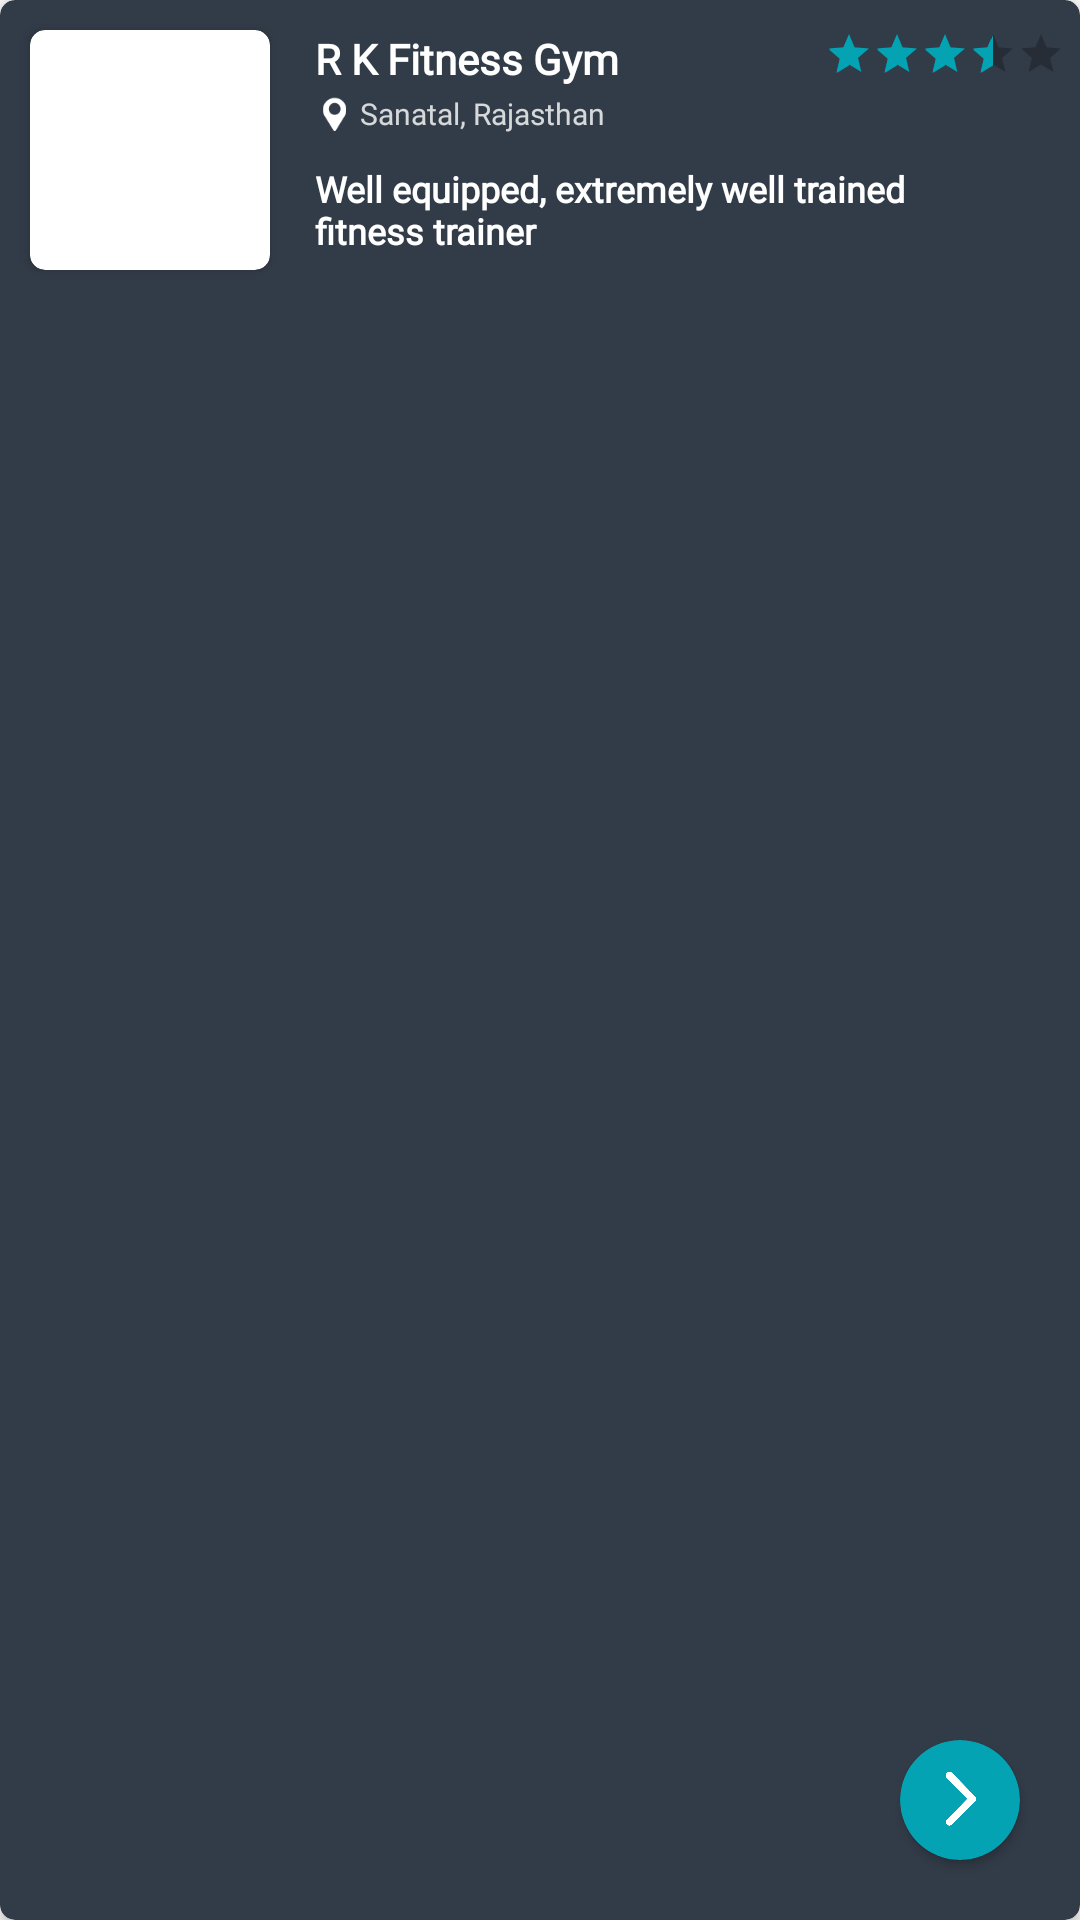

Named icons in this screenshot (1080w x 1920h) and their centers, (x,y):
arrow: (960,1800)
location: (334,114)
